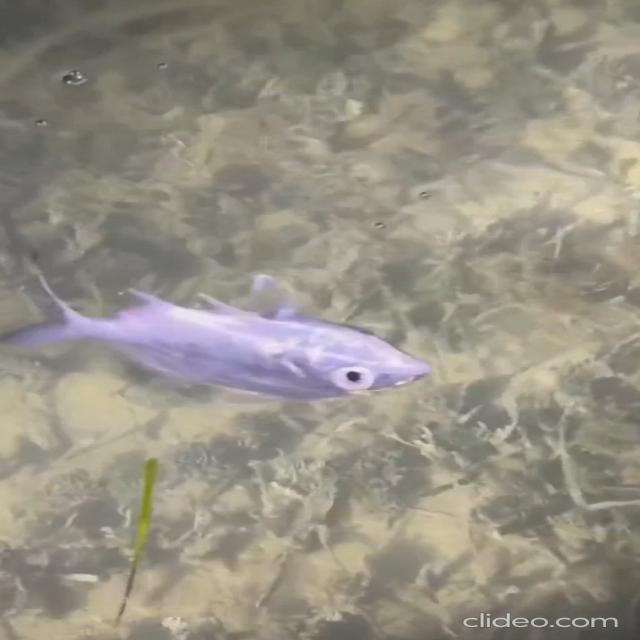fish: (19, 232, 450, 413)
